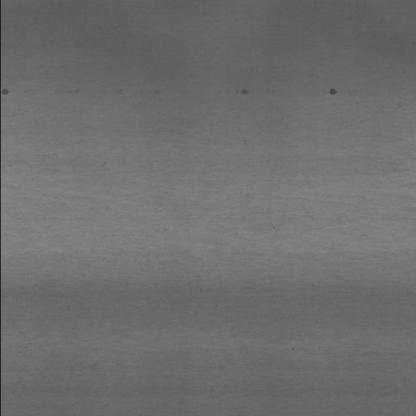oil_spot: (320, 86, 350, 96), (236, 86, 251, 97), (2, 86, 14, 97)
